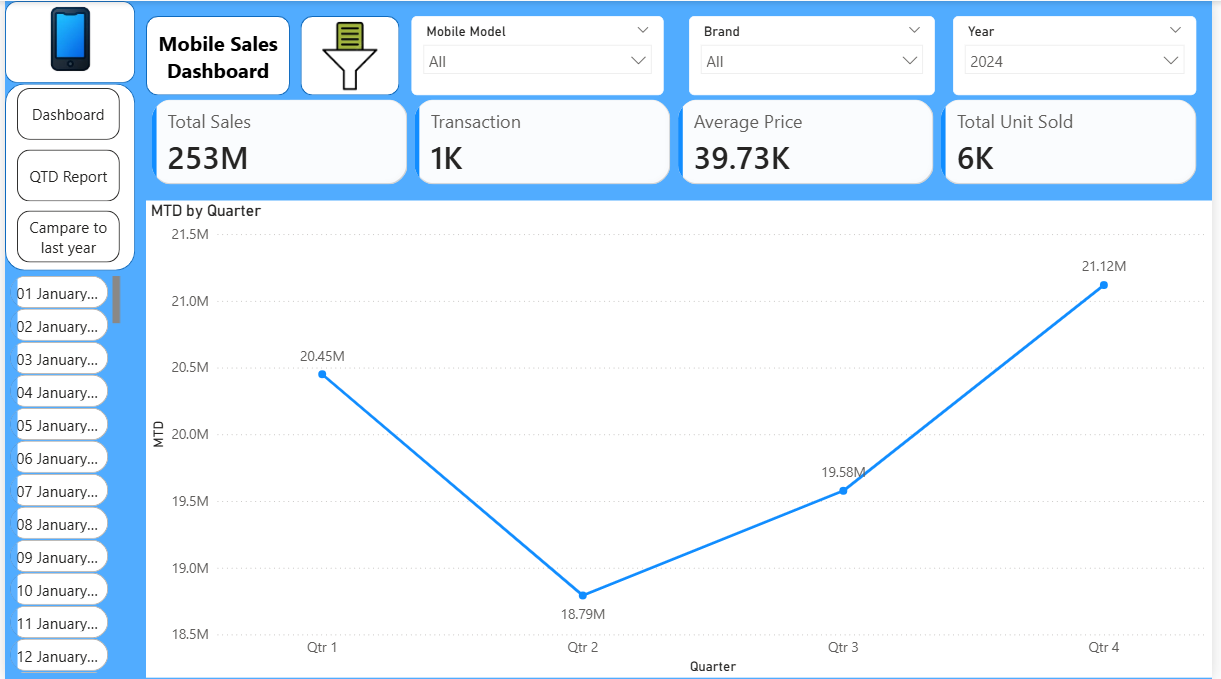

The dashboard page shown, as its layout file describes it:
{"tool":"powerbi","page":{"name":"MTD Report","canvas":[1280,720],"ordinal":1},"visuals":[{"type":"shape","box":[149.5,15.9,152.7,84.3],"z":0},{"type":"shape","box":[0,0,138,86.9],"z":1000},{"type":"image","box":[0,0,138.4,81.1],"z":2000},{"type":"shape","box":[0,86.9,138,198.4],"z":3000},{"type":"cardVisual","fields":{"Data":["Sheet1.Total Sales","Sheet1.Transaction","Sheet1.Average Price","Sheet1.Total Unit Sold"]},"box":[138.4,81.1,1142.1,130.4],"z":4000},{"type":"slicer","fields":{"Values":["Sheet1.Mobile Model"]},"box":[431.1,15.9,267.2,84.3],"z":5000},{"type":"slicer","fields":{"Values":["Sheet1.Brand"]},"box":[725.3,15.9,260.9,84.3],"z":6000},{"type":"slicer","fields":{"Values":["Date.Date.Variation.Date Hierarchy.Year"]},"box":[1005.3,15.9,257.7,84.3],"z":7000},{"type":"shape","box":[313.4,15.9,105,84.3],"z":8000},{"type":"image","box":[278.4,12.7,175,90.7],"z":9000},{"type":"lineChart","fields":{"Y":["Sheet1.MTD"],"Category":["Date.Date.Variation.Date Hierarchy.Quarter","Date.Date.Variation.Date Hierarchy.Month","Date.Date.Variation.Date Hierarchy.Day"]},"box":[149.5,211.6,1130.9,505.8],"z":10000},{"type":"advancedSlicerVisual","fields":{"Values":["Date.Date"]},"box":[0,285.8,127.2,434.2],"z":11000},{"type":"pageNavigator","box":[12.7,92.3,109.8,186.1],"z":12000}]}

Visuals, with their boxes in screenshot pixels (x1, y1, x2, y2), scaled from the page's 1280x720 canvas onto the 1221x679 screenshot:
shape: bbox=(143, 15, 288, 94)
shape: bbox=(0, 0, 132, 82)
image: bbox=(0, 0, 132, 76)
shape: bbox=(0, 82, 132, 269)
cardVisual - Sheet1.Total Sales x Sheet1.Transaction: bbox=(132, 76, 1220, 199)
slicer - Sheet1.Mobile Model: bbox=(411, 15, 666, 94)
slicer - Sheet1.Brand: bbox=(692, 15, 941, 94)
slicer - Date.Date.Variation.Date Hierarchy.Year: bbox=(959, 15, 1205, 94)
shape: bbox=(299, 15, 399, 94)
image: bbox=(266, 12, 433, 98)
lineChart - Sheet1.MTD x Date.Date.Variation.Date Hierarchy.Quarter: bbox=(143, 200, 1220, 677)
advancedSlicerVisual - Date.Date: bbox=(0, 270, 121, 678)
pageNavigator: bbox=(12, 87, 117, 263)
